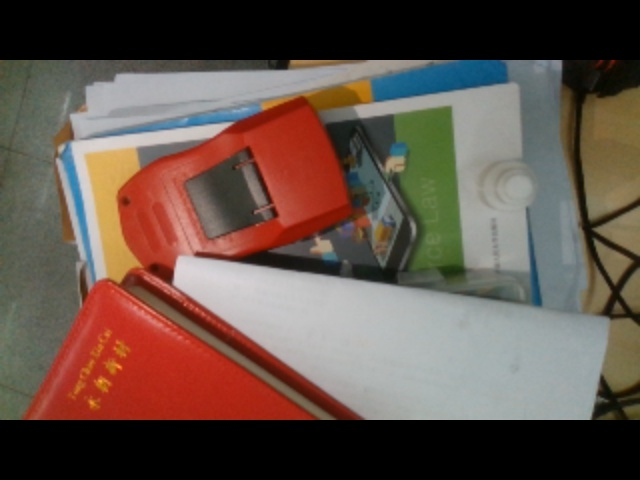Multimeter: (113, 96, 354, 276)
Screw holes: (120, 194, 129, 208)
